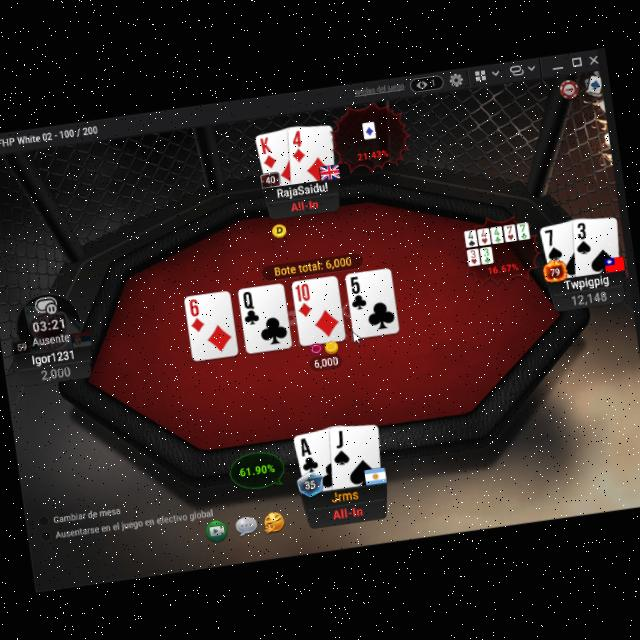3s: (571, 217, 595, 254)
4d: (286, 125, 308, 163)
5c: (346, 272, 371, 312)
6d: (185, 294, 207, 334), (186, 294, 208, 334)
7s: (544, 227, 564, 260)
Ac: (296, 433, 321, 473)
Js: (328, 425, 352, 466)
Kd: (258, 132, 280, 169)
Qc: (239, 287, 262, 326)
Td: (293, 279, 315, 319)
all_in_symbol: (329, 500, 366, 522), (288, 195, 321, 213)
bet_text: (311, 352, 340, 369)
dealer: (270, 219, 288, 239)
pot_text: (274, 253, 354, 276)
stack_text: (572, 288, 609, 306), (38, 363, 72, 382)
